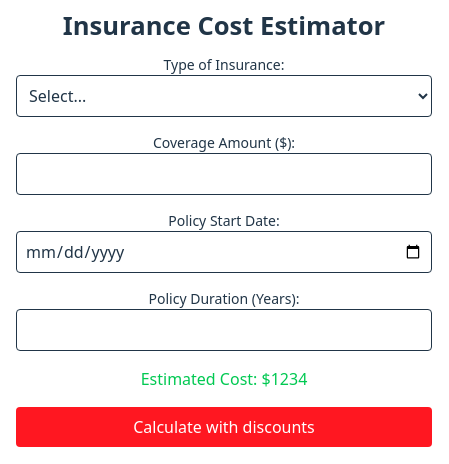
Form › submits form and displays calculated cost
The width and height of the screenshot is (449, 464).
Select "Auto" in the dropdown labelled "Type of Insurance:". click: (224, 96)
box: [16,74,432,116]
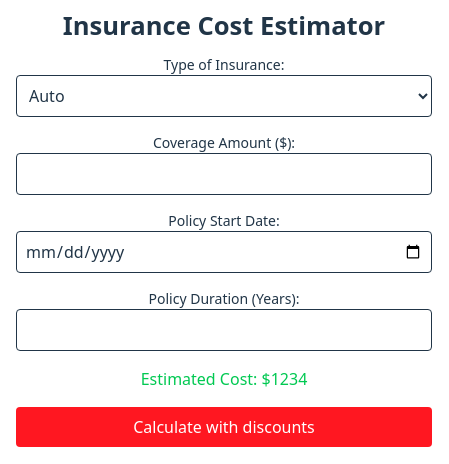
Type "2000" into the number field labelled "Coverage Amount ($):". click: (224, 174)
box: [16,152,432,194]
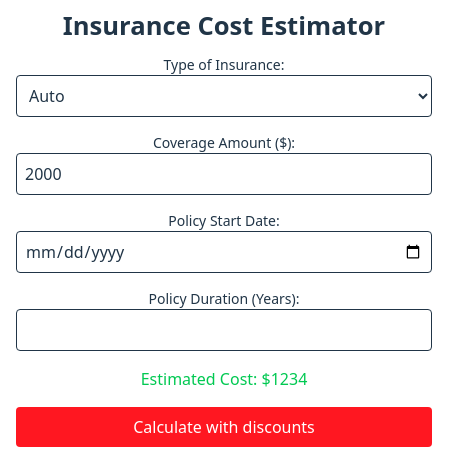
Type "2024-06-01" into the date field labelled "Policy Start Date:". click: (224, 252)
box: [16,230,432,272]
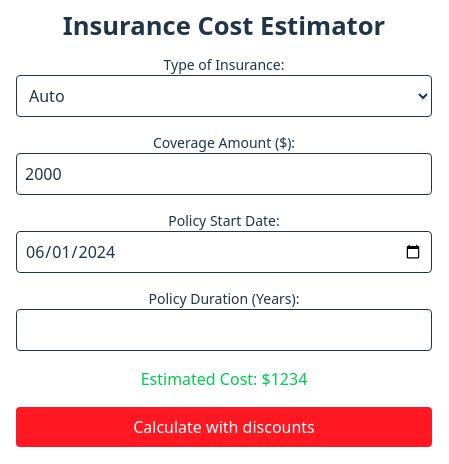
Type "2" into the number field labelled "Policy Duration (Years):". click: (224, 330)
box: [16,308,432,350]
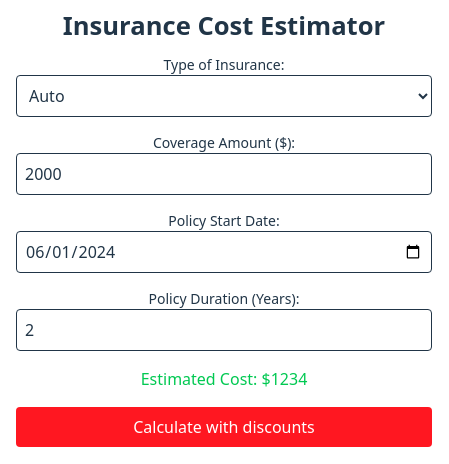
Click the button "Calculate with discounts". click: (224, 426)
box: [16,406,432,446]
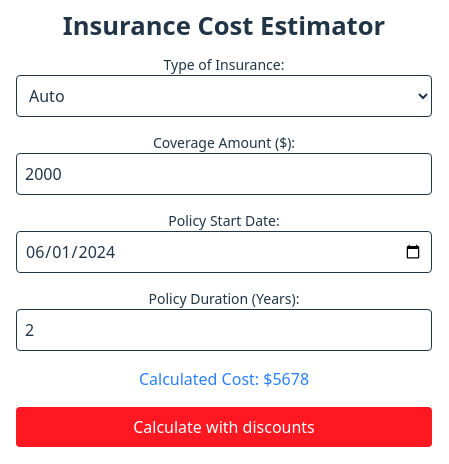
Check: the text "Calculated Cost: $5678" is shown, box [139,368,309,390]
